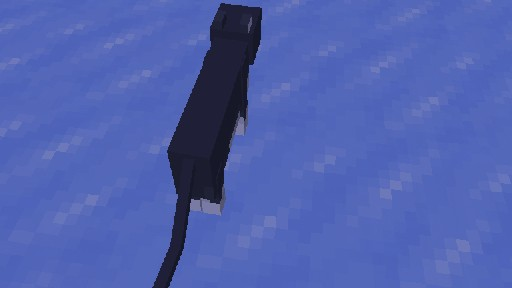cat: (136, 2, 261, 288)
